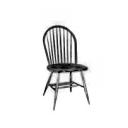chair_success: (30, 20, 97, 113)
